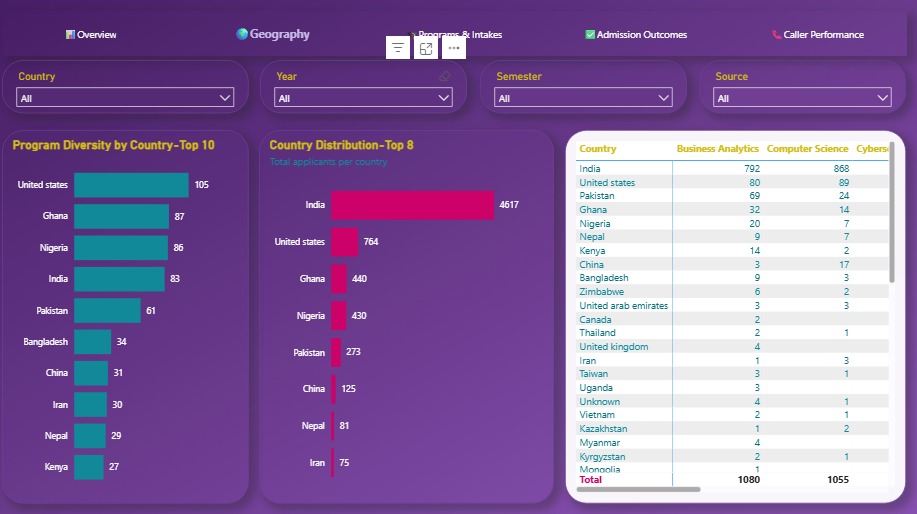

This screenshot's page, from the dashboard's own definition file:
{"tool":"powerbi","page":{"name":"🌍Geography","canvas":[1280,720],"ordinal":1},"visuals":[{"type":"barChart","title":"Program Diversity by Country-Top 10","fields":{"Category":["Sheet1.Country"],"Y":["Count(Sheet1.Program)"]},"box":[8.7,181.8,341.8,517.8],"z":0,"group":"g2"},{"type":"pageNavigator","box":[9.2,16.5,1254.4,62.3],"z":1000},{"type":"barChart","title":"Country Distribution-Top 8","fields":{"Category":["Sheet1.Country"],"Y":["CountNonNull(Sheet1.Reference_ID)"]},"box":[365.8,181.8,408.7,517.8],"z":2000,"group":"g2"},{"type":"group","id":"g1","title":"Group 3","box":[9,85,1254.4,75.1],"z":3000},{"type":"pivotTable","fields":{"Rows":["Sheet1.Country"],"Columns":["Sheet1.Program"],"Values":["CountNonNull(Sheet1.Program)"]},"box":[789.8,181.8,472.7,517.8],"z":4000,"group":"g2"},{"type":"group","id":"g2","title":"Group 1","box":[8.7,181.8,1253.8,517.8],"z":4001},{"type":"slicer","fields":{"Values":["Sheet1.Country"]},"box":[9,85,341.6,74.2],"z":6000,"group":"g1"},{"type":"slicer","fields":{"Values":["Sheet1.Intake_Season"]},"box":[671.7,85.5,287.1,74.5],"z":7000,"group":"g1"},{"type":"slicer","fields":{"Values":["Sheet1.Intake_Year"]},"box":[367.3,85.5,287.1,74.5],"z":8000,"group":"g1"},{"type":"slicer","fields":{"Values":["Sheet1.Application_Source"]},"box":[975.1,85.5,287.1,74.5],"z":9014,"group":"g1"}]}

Visuals, with their boxes in screenshot pixels (x1, y1, x2, y2), scaled from the page's 1280x720 canvas onto the 917x514 screenshot:
"Program Diversity by Country-Top 10" barChart: select_region(6, 130, 251, 499)
pageNavigator: select_region(7, 12, 905, 56)
"Country Distribution-Top 8" barChart: select_region(262, 130, 555, 499)
"Group 3" group: select_region(6, 61, 905, 114)
pivotTable - Sheet1.Country x Sheet1.Program: select_region(566, 130, 904, 499)
"Group 1" group: select_region(6, 130, 904, 499)
slicer - Sheet1.Country: select_region(6, 61, 251, 114)
slicer - Sheet1.Intake_Season: select_region(481, 61, 687, 114)
slicer - Sheet1.Intake_Year: select_region(263, 61, 469, 114)
slicer - Sheet1.Application_Source: select_region(699, 61, 904, 114)
